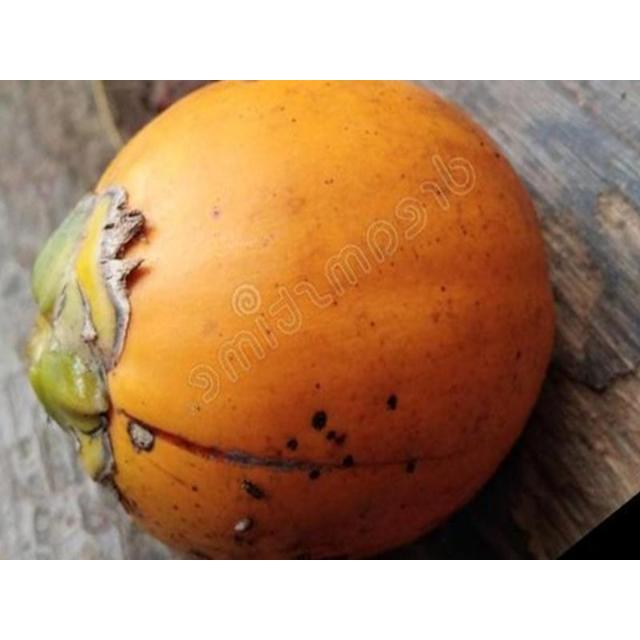good: (25, 80, 558, 559)
